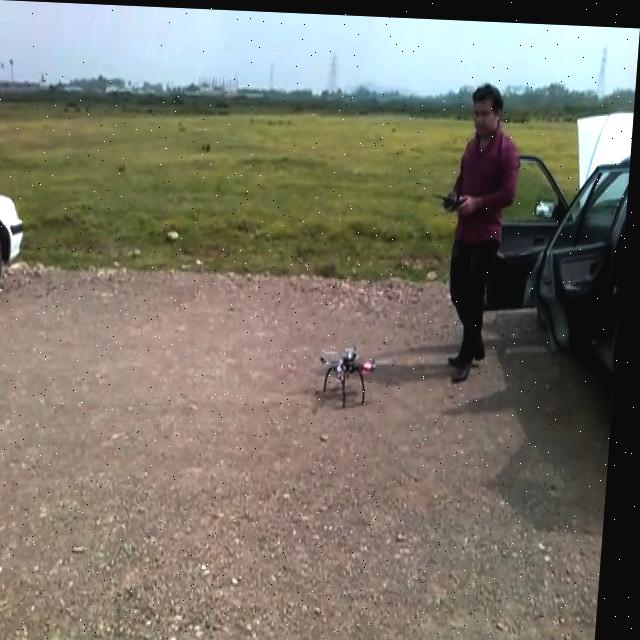drone: (319, 338, 391, 404)
